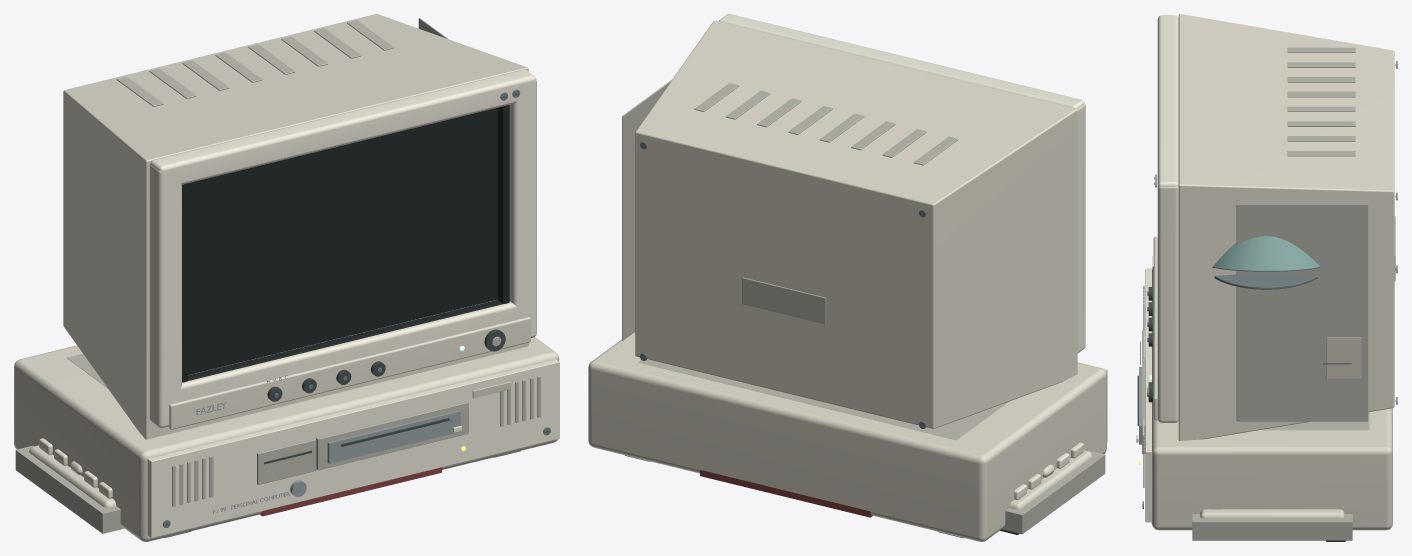
Rendered from hero-props.glb.
3 renders of one model, left to right at view 1: azimuth 30°, elevation 25°; view 2: azimuth 150°, elevation 25°; view 3: azimuth 270°, elevation 25°, orthographic. The views are drawn at different scales.
Visible parts, largest first — view 1: CRT / CRT inner recess, CRT / Aged ivory ABS, CRT / Sun-worn ivory, TOWER / Sun-worn ivory, horizontal PC chassis, TOWER / Recessed beige, CRT / Recessed beige, TOWER / Pewter gray plastic, KEYBOARD / Recessed beige, KEYBOARD / Aged ivory ABS, NOTEBOOK / Recessed oxblood, CRT / Charcoal rubber; view 2: CRT / Aged ivory ABS, horizontal PC chassis, CRT / Recessed beige, CRT / Sun-worn ivory, KEYBOARD / Recessed beige, NOTEBOOK / Recessed oxblood, KEYBOARD / Aged ivory ABS; view 3: CRT / Aged ivory ABS, CRT / Recessed beige, horizontal PC chassis, CRT / Sun-worn ivory, KEYBOARD / Recessed beige, tapered shade, TOWER / Sun-worn ivory, monitor service decal, KEYBOARD / Aged ivory ABS, shade rim, TOWER / Recessed beige, CRT / Charcoal rubber.
Part boxes in pixels (bbox=[...]): CRT / CRT inner recess: bbox=[182, 105, 509, 382]; CRT / Aged ivory ABS: bbox=[63, 14, 530, 439]; CRT / Sun-worn ivory: bbox=[149, 69, 536, 427]; TOWER / Sun-worn ivory: bbox=[147, 359, 559, 538]; horizontal PC chassis: bbox=[14, 337, 559, 541]; TOWER / Recessed beige: bbox=[172, 376, 540, 506]; CRT / Recessed beige: bbox=[67, 18, 501, 387]; TOWER / Pewter gray plastic: bbox=[213, 410, 460, 513]; KEYBOARD / Recessed beige: bbox=[15, 445, 124, 533]; KEYBOARD / Aged ivory ABS: bbox=[29, 445, 116, 507]; NOTEBOOK / Recessed oxblood: bbox=[260, 467, 441, 516]; CRT / Charcoal rubber: bbox=[267, 93, 518, 401]; CRT / Aged ivory ABS: bbox=[635, 20, 1077, 428]; horizontal PC chassis: bbox=[588, 332, 1106, 541]; CRT / Recessed beige: bbox=[622, 79, 1010, 440]; CRT / Sun-worn ivory: bbox=[719, 14, 1085, 353]; KEYBOARD / Recessed beige: bbox=[1002, 450, 1105, 534]; NOTEBOOK / Recessed oxblood: bbox=[700, 470, 872, 517]; KEYBOARD / Aged ivory ABS: bbox=[1009, 450, 1092, 509]; CRT / Aged ivory ABS: bbox=[1153, 14, 1394, 440]; CRT / Recessed beige: bbox=[1147, 47, 1395, 430]; horizontal PC chassis: bbox=[1151, 266, 1392, 530]; CRT / Sun-worn ivory: bbox=[1157, 15, 1178, 422]; KEYBOARD / Recessed beige: bbox=[1192, 509, 1352, 540]; tapered shade: bbox=[1212, 236, 1320, 271]; TOWER / Sun-worn ivory: bbox=[1136, 268, 1152, 522]; monitor service decal: bbox=[1326, 337, 1361, 378]; KEYBOARD / Aged ivory ABS: bbox=[1200, 509, 1344, 518]; shade rim: bbox=[1214, 274, 1317, 289]; TOWER / Recessed beige: bbox=[1142, 285, 1145, 487]; CRT / Charcoal rubber: bbox=[1148, 64, 1395, 402].
Bounding box in the file's own units: 3.04 × 2.41 × 1.65.
